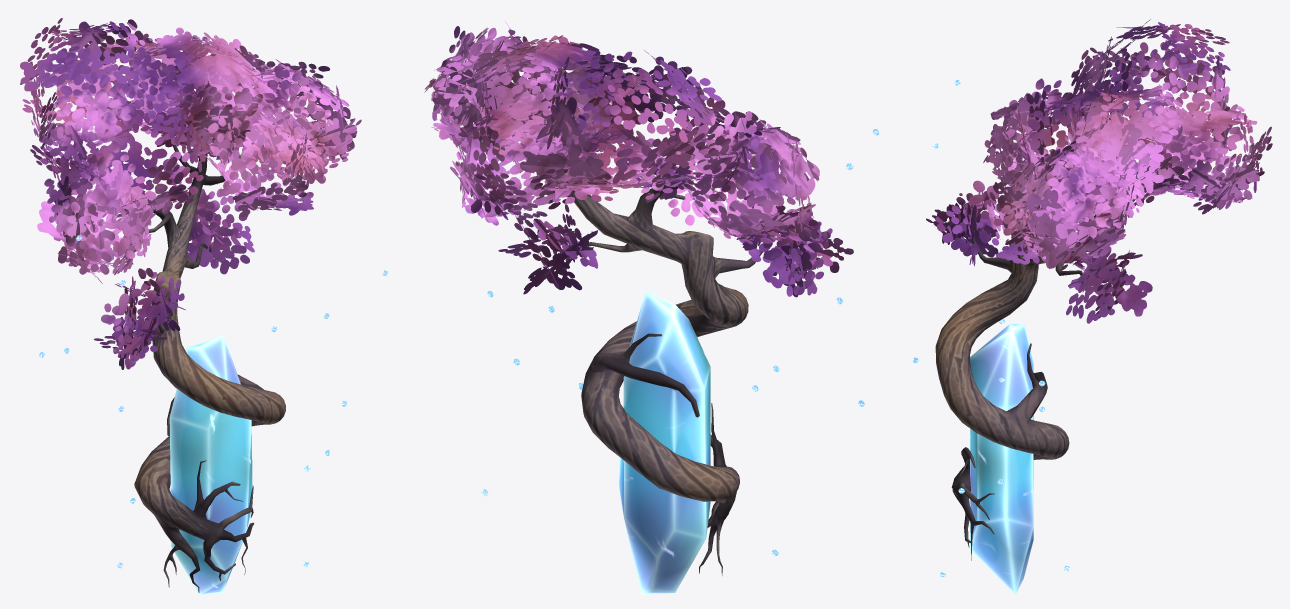
Rendered from fantasy_sakura.glb.
3 views of the same model, side by side, from view 1: azimuth 30°, elevation 25°; view 2: azimuth 150°, elevation 25°; view 3: azimuth 270°, elevation 25° (orthographic). The views are drawn at different scales.
Parts seen in each view (by area): view 1: Folliage_LP_Folliage_0, Tronc_LP_Tronc & Crystal_0, Crystal_LP_Tronc & Crystal_0; view 2: Folliage_LP_Folliage_0, Tronc_LP_Tronc & Crystal_0, Crystal_LP_Tronc & Crystal_0; view 3: Folliage_LP_Folliage_0, Tronc_LP_Tronc & Crystal_0, Crystal_LP_Tronc & Crystal_0.
Part boxes in pixels (x1,y1,x2,y2): Folliage_LP_Folliage_0: [20, 18, 361, 369]; Tronc_LP_Tronc & Crystal_0: [134, 145, 285, 592]; Crystal_LP_Tronc & Crystal_0: [169, 335, 252, 594]; Folliage_LP_Folliage_0: [424, 23, 853, 297]; Tronc_LP_Tronc & Crystal_0: [563, 144, 770, 575]; Crystal_LP_Tronc & Crystal_0: [618, 291, 710, 594]; Folliage_LP_Folliage_0: [926, 19, 1272, 323]; Tronc_LP_Tronc & Crystal_0: [935, 165, 1138, 560]; Crystal_LP_Tronc & Crystal_0: [970, 323, 1033, 594].
Size of the model in its own units: 0.9323 by 1.41 by 0.8579.
3 materials, 3 textured.
